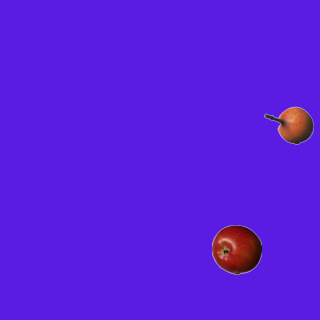Apple Braeburn: (211, 224, 261, 274)
Granadilla: (263, 100, 313, 150)
